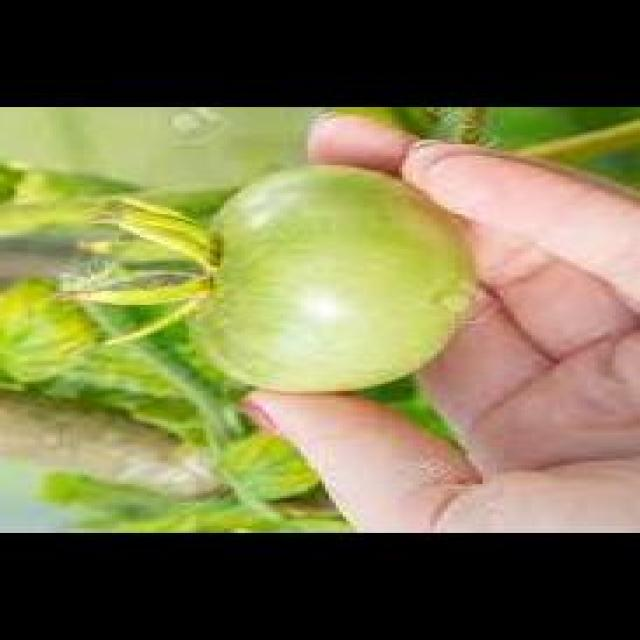Tomato: (183, 162, 472, 400)
